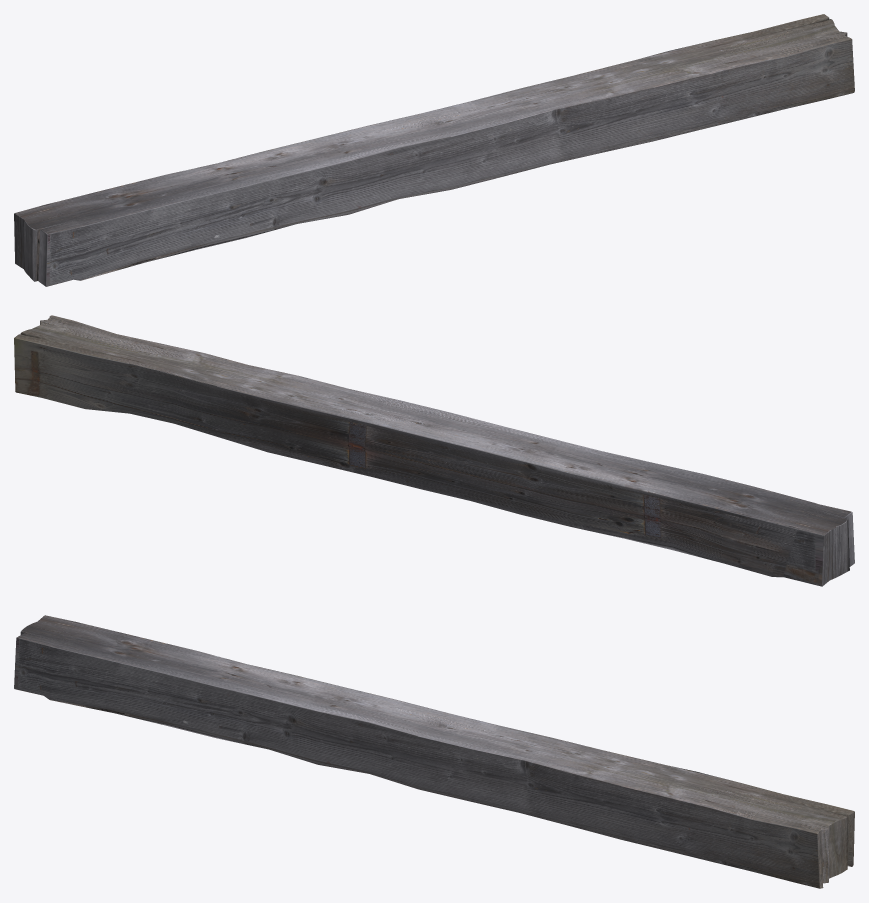
Rendered from SM_WoodPlank_02_08.fbx.
3 renders of one model, top to bottom at view 1: azimuth 30°, elevation 25°; view 2: azimuth 150°, elevation 25°; view 3: azimuth 330°, elevation 25°, orthographic.
Parts seen in each view (by area): view 1: sm_WoodPlank_02_08_LOD0; view 2: sm_WoodPlank_02_08_LOD0; view 3: sm_WoodPlank_02_08_LOD0.
Boxes of the visible parts, x1=… form: sm_WoodPlank_02_08_LOD0: x1=14, y1=14, x2=854, y2=286; sm_WoodPlank_02_08_LOD0: x1=14, y1=315, x2=854, y2=586; sm_WoodPlank_02_08_LOD0: x1=14, y1=615, x2=854, y2=888.
Size of the model in its own units: 20.92 by 301 by 19.98.
